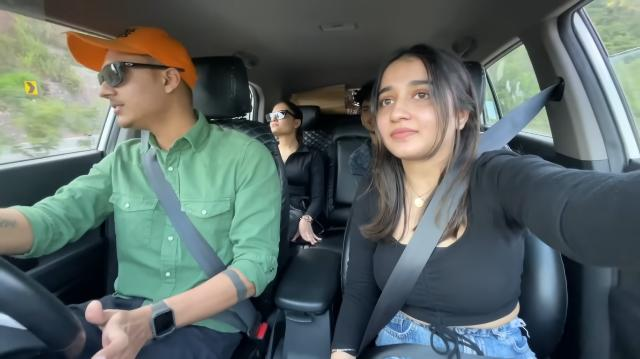seatbelt: (354, 75, 564, 357), (87, 93, 267, 359), (250, 109, 334, 208)
